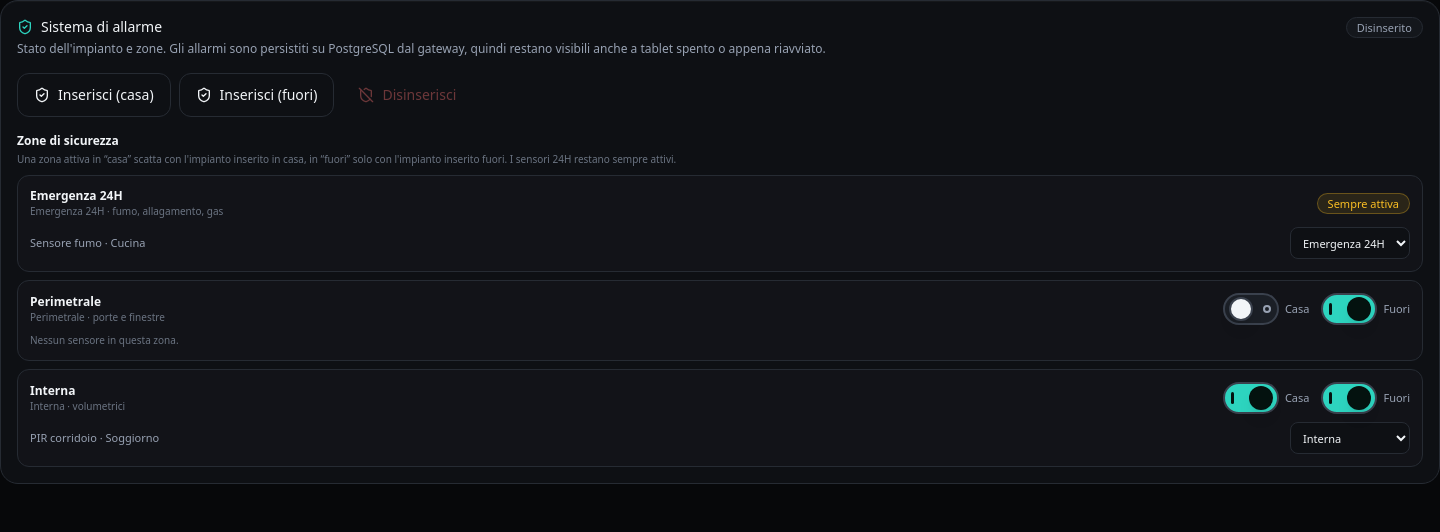
Test: SecuritySystemCard › mostra lo stato e arma l’impianto in modalità fuori
Expected: the text with test id "security-status" reads "Disinserito", top-left (1357, 20), bottom-right (1412, 35)
Expected: the text "PIR corridoio · Soggiorno" is shown, top-left (30, 430), bottom-right (159, 446)
Click the button "Inserisci (fuori)".
click(256, 95)  # box top-left (179, 73), bottom-right (334, 117)
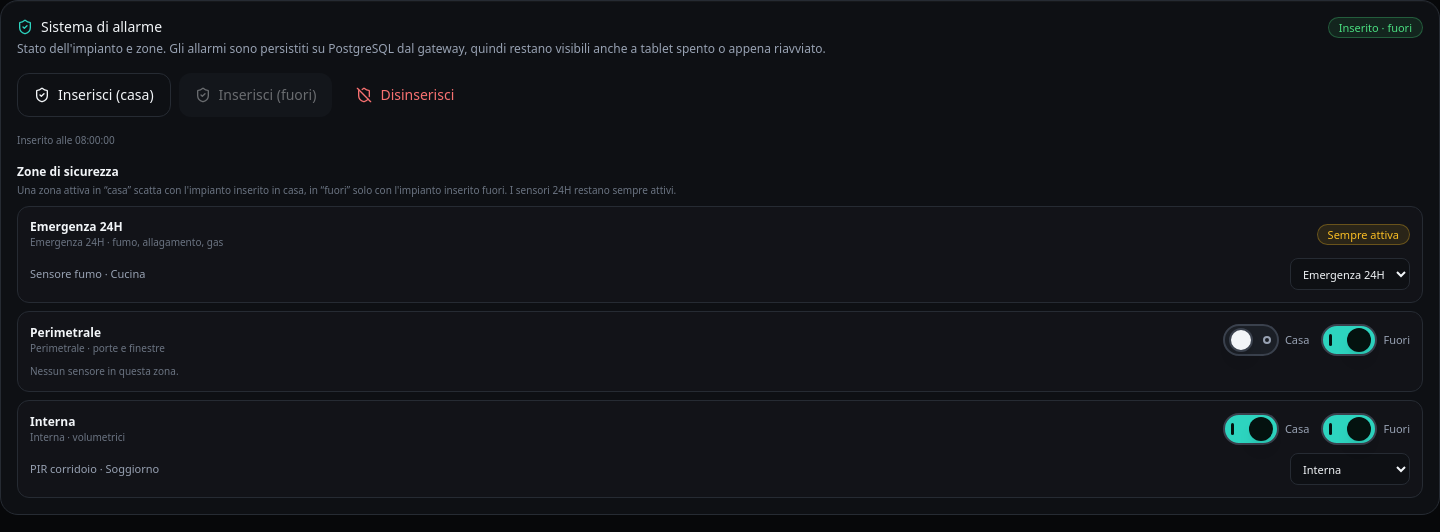
Now the text with test id "security-status" reads "Inserito · fuori", box top-left (1339, 20), bottom-right (1412, 35)
